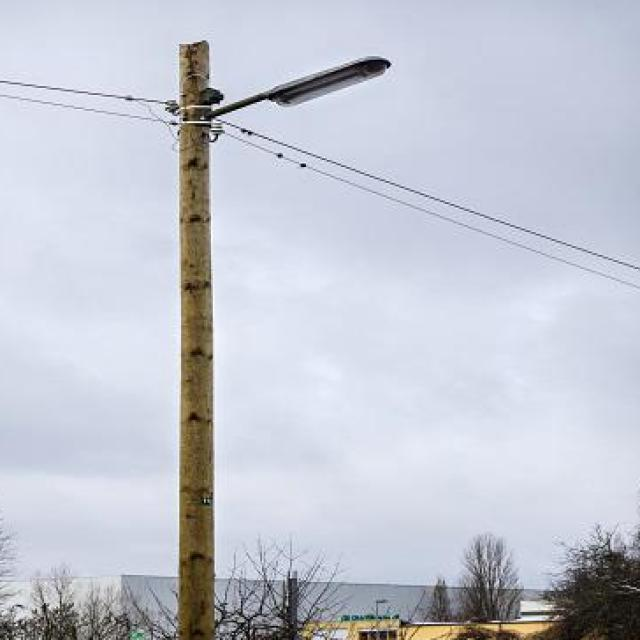non-critical vegetation: (107, 31, 276, 640)
